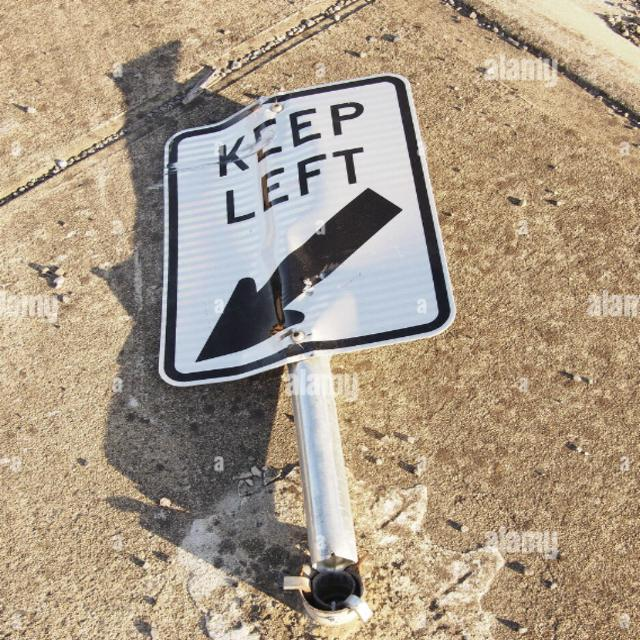Inclined Pole: (142, 62, 482, 618)
